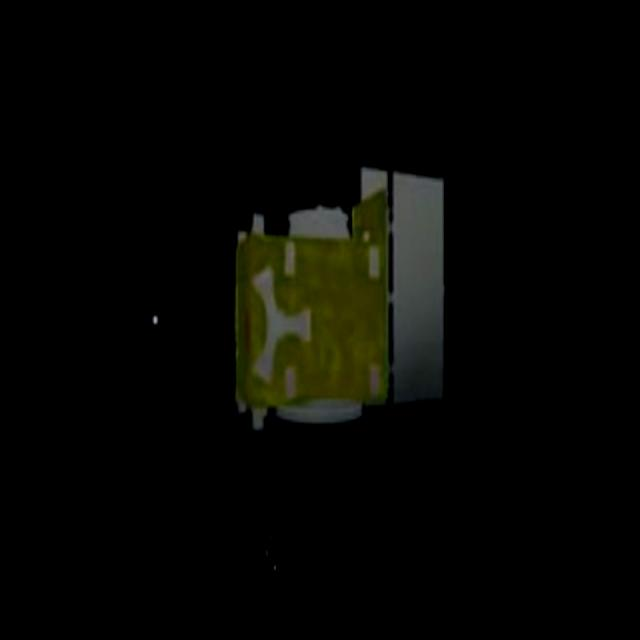medium_debris: (213, 113, 462, 496)
